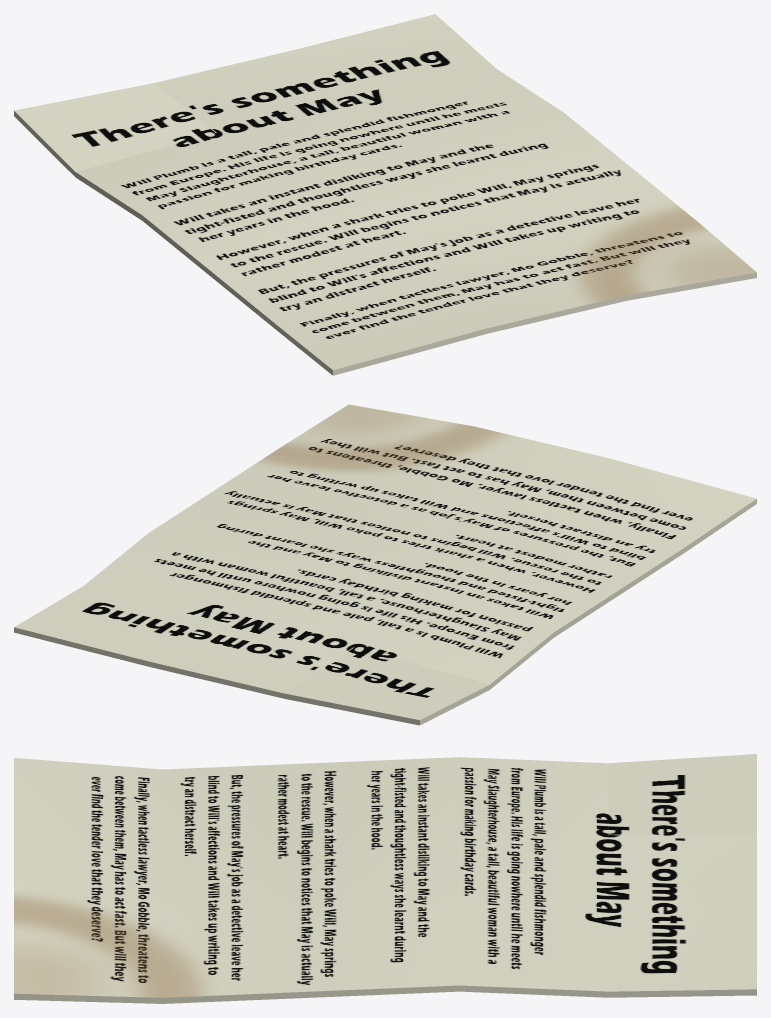
File: RomancePage.fbx
3 renders of one model, top to bottom at view 1: azimuth 30°, elevation 25°; view 2: azimuth 150°, elevation 25°; view 3: azimuth 270°, elevation 25°, orthographic. The views are drawn at different scales.
Visible parts, largest first — view 1: RomancePage; view 2: RomancePage; view 3: RomancePage.
Boxes of the visible parts, x1,y1,x2,y2 form: RomancePage: (14,14,756,375); RomancePage: (14,404,756,725); RomancePage: (14,754,756,1003).
Bounding box in the file's own units: 0.8294 × 0.0401 × 1.1.
